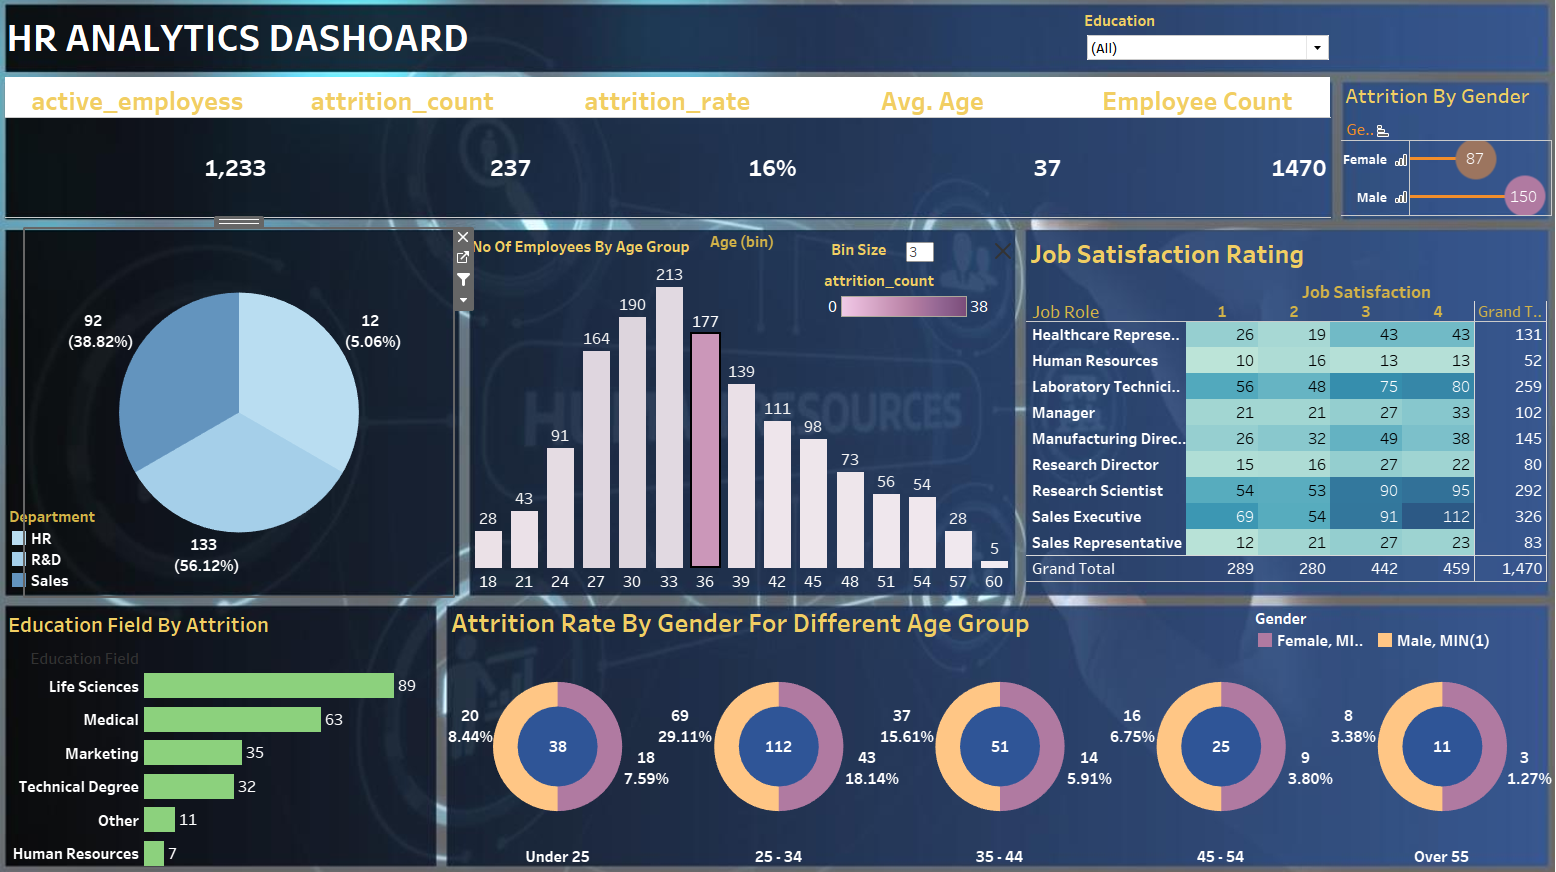

Layout of this report page (visuals, bound fields, positions):
{"tool":"tableau","page":{"name":"HR Dashoard","canvas":[1580,900],"ordinal":0},"visuals":[{"type":"image","param":"Image/HR background.pptx.jpg","box":[8,8,1564,884]},{"type":"text","box":[16,17,1545,66]},{"type":"filter","title":"No. of Employee by Age Group","param":"[federated.03v4nj60xr4gd61cyu7xc1q0pjc1].[none:Education:nk]","box":[1097,24,248,72]},{"type":"worksheet","title":"KPI","mark":"Automatic","box":[18,91,1326,141]},{"type":"worksheet","title":"Attrition y Gender","mark":"Automatic","rows":["Gender"],"cols":["Calculation_595882541601296384","Calculation_595882541601296384"],"box":[1354,91,211,139]},{"type":"worksheet","title":"Department wise Attrition","mark":"Pie","box":[38,243,428,367]},{"type":"text","box":[481,245,225,30]},{"type":"worksheet","title":"No. of Employee by Age Group","mark":"Automatic","rows":["Employee Count"],"cols":["Age (bin)"],"box":[483,245,543,362]},{"type":"worksheet","title":"Job Satisfaction Rating","mark":"Square","rows":["Job Role"],"cols":["Job Satisfaction"],"box":[1039,246,521,365]},{"type":"parameter","param":"[Parameters].[Parameter 1]","box":[844,253,106,29]},{"type":"dashboard-object","box":[1004,253,24,24]},{"type":"legend","title":"No. of Employee by Age Group","param":"[federated.03v4nj60xr4gd61cyu7xc1q0pjc1].[sum:Calculation_595882541601296384:qk]","box":[837,284,169,55]},{"type":"legend","title":"Department wise Attrition","param":"[federated.03v4nj60xr4gd61cyu7xc1q0pjc1].[none:Department:nk]","box":[22,520,156,85]},{"type":"worksheet","title":"Attrition Rate By Gender for Differernt Age Group","mark":"Pie","rows":["Calculation_874824243883716614","Calculation_874824243883745288"],"cols":["CF_age band"],"box":[460,615,1106,267]},{"type":"worksheet","title":"Education Field By Attrition","mark":"Automatic","rows":["Education Field"],"cols":["Calculation_595882541601296384"],"box":[17,620,429,264]},{"type":"legend","title":"Attrition Rate By Gender for Differernt Age Group","param":"[federated.03v4nj60xr4gd61cyu7xc1q0pjc1].[none:Gender:nk]\n[federated.03v4nj60xr4","box":[1268,622,268,64]}]}

Visuals, with their boxes in screenshot pixels (x1, y1, x2, y2), scaled from the page's 1580x900 canvas onto the 1556x872 screenshot:
image: [8, 8, 1548, 864]
text: [16, 16, 1537, 80]
"No. of Employee by Age Group" filter: [1080, 23, 1325, 93]
"KPI" worksheet: [18, 88, 1324, 225]
"Attrition y Gender" worksheet: [1333, 88, 1541, 223]
"Department wise Attrition" worksheet (Pie marks): [37, 235, 459, 591]
text: [474, 237, 695, 266]
"No. of Employee by Age Group" worksheet: [476, 237, 1010, 588]
"Job Satisfaction Rating" worksheet (Square marks): [1023, 238, 1536, 592]
parameter: [831, 245, 936, 273]
dashboard-object: [989, 245, 1012, 268]
"No. of Employee by Age Group" legend: [824, 275, 991, 328]
"Department wise Attrition" legend: [22, 504, 175, 586]
"Attrition Rate By Gender for Differernt Age Group" worksheet (Pie marks): [453, 596, 1542, 855]
"Education Field By Attrition" worksheet: [17, 601, 439, 856]
"Attrition Rate By Gender for Differernt Age Group" legend: [1249, 603, 1513, 665]
